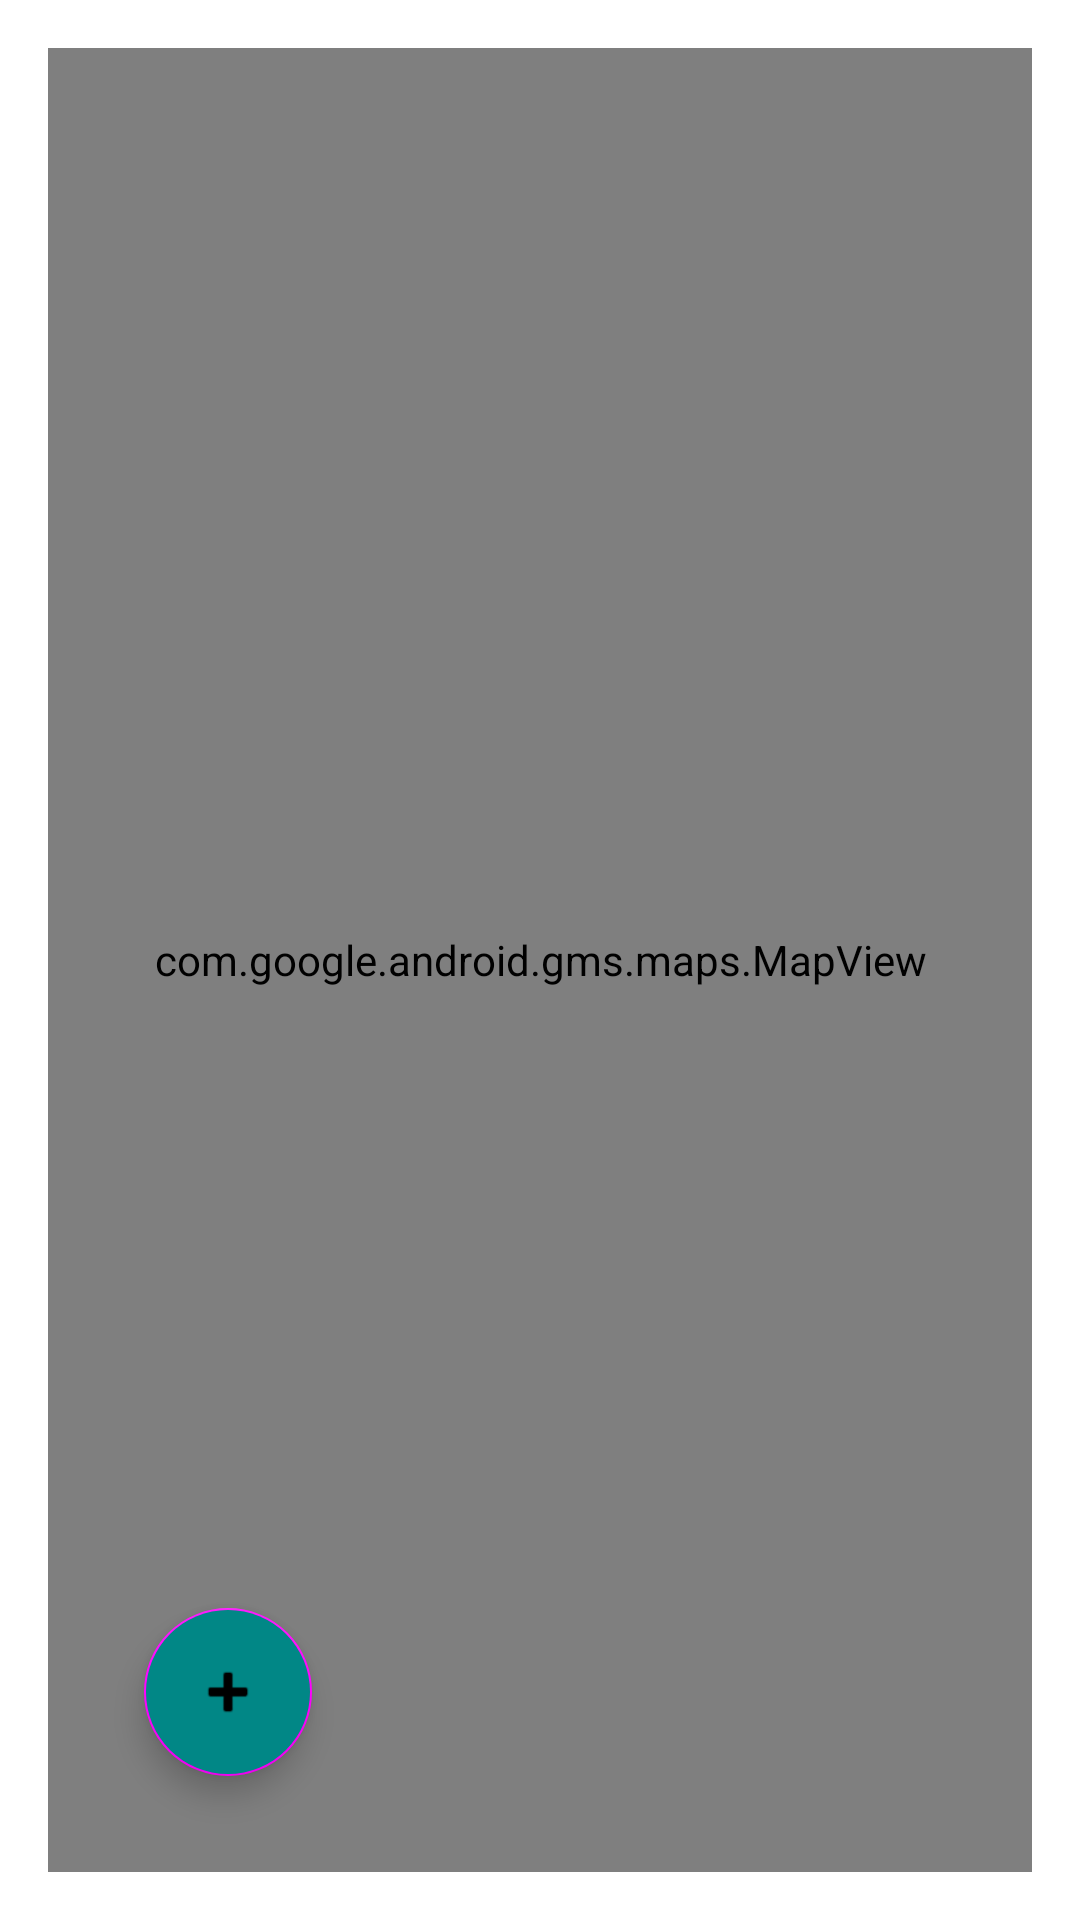

Icons on this 1080 x 1920 Android screen, each with its box as bbox=(x1, y1, x2, y2):
add: bbox=(144, 1608, 312, 1776)
